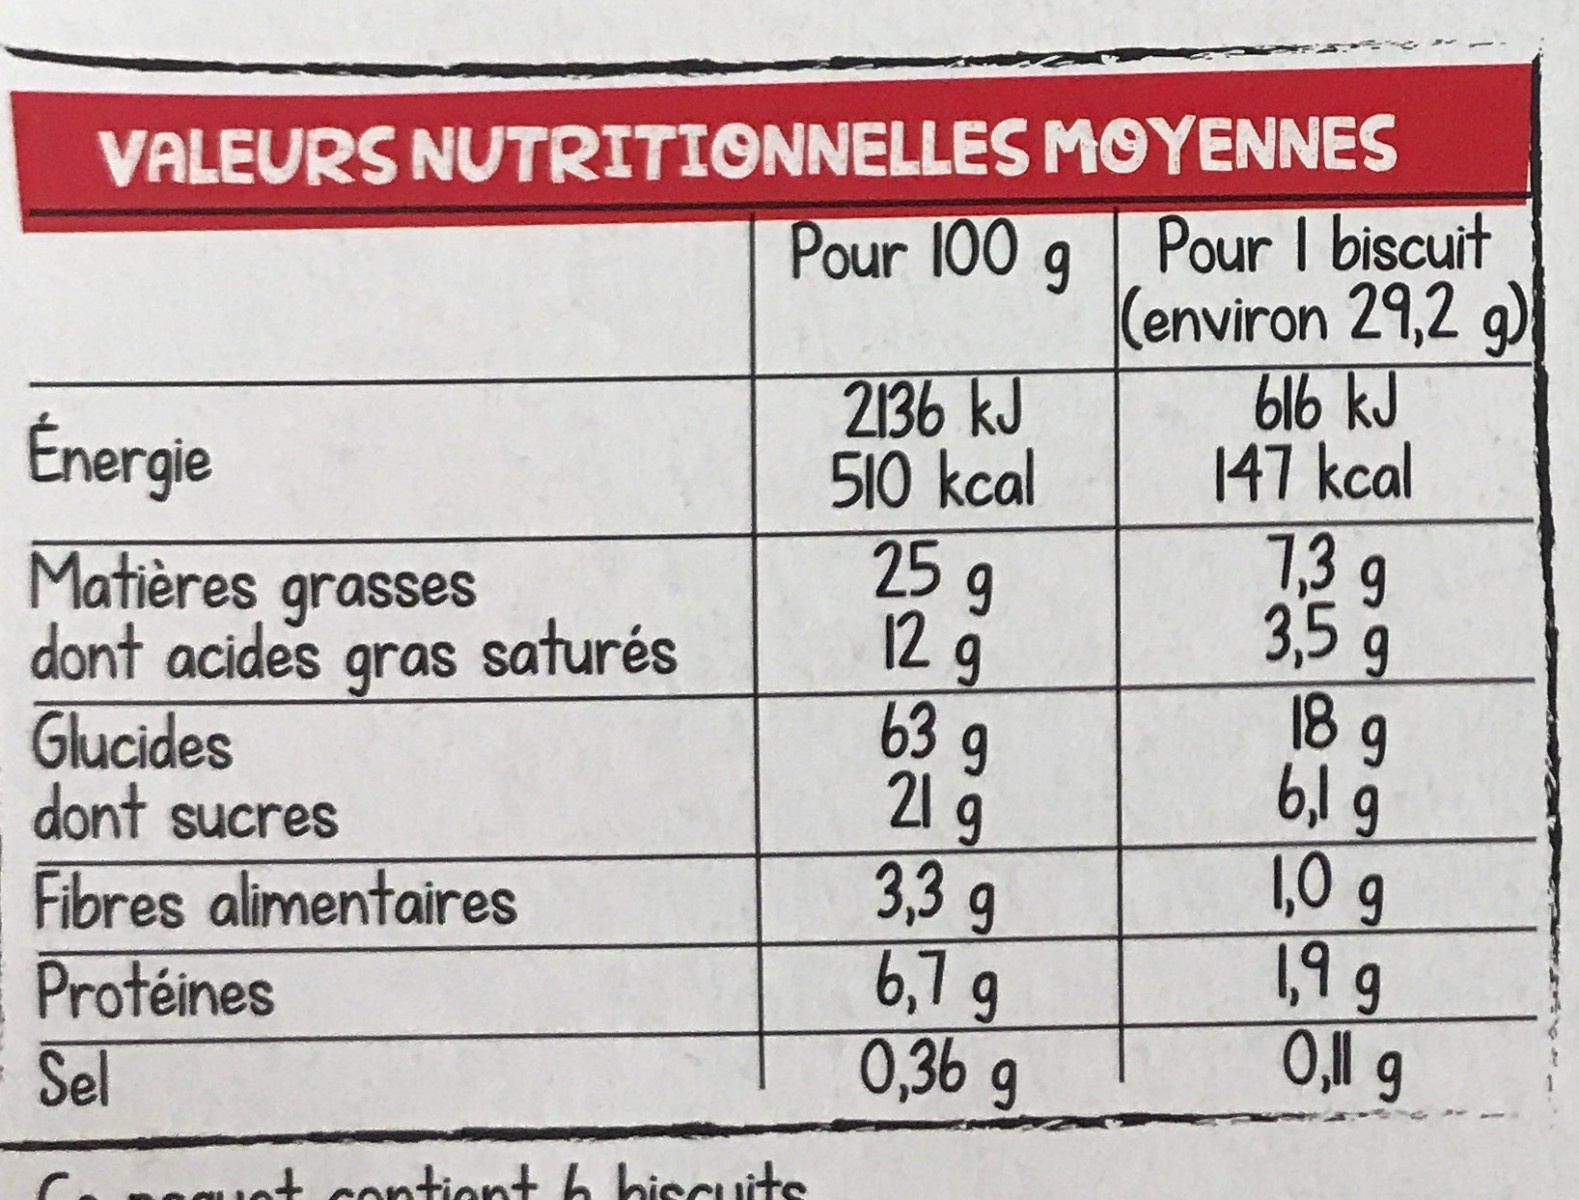column: (26, 412, 684, 1114), (1127, 216, 1529, 1100), (785, 216, 1076, 1111)
table: (3, 79, 1563, 1139)
